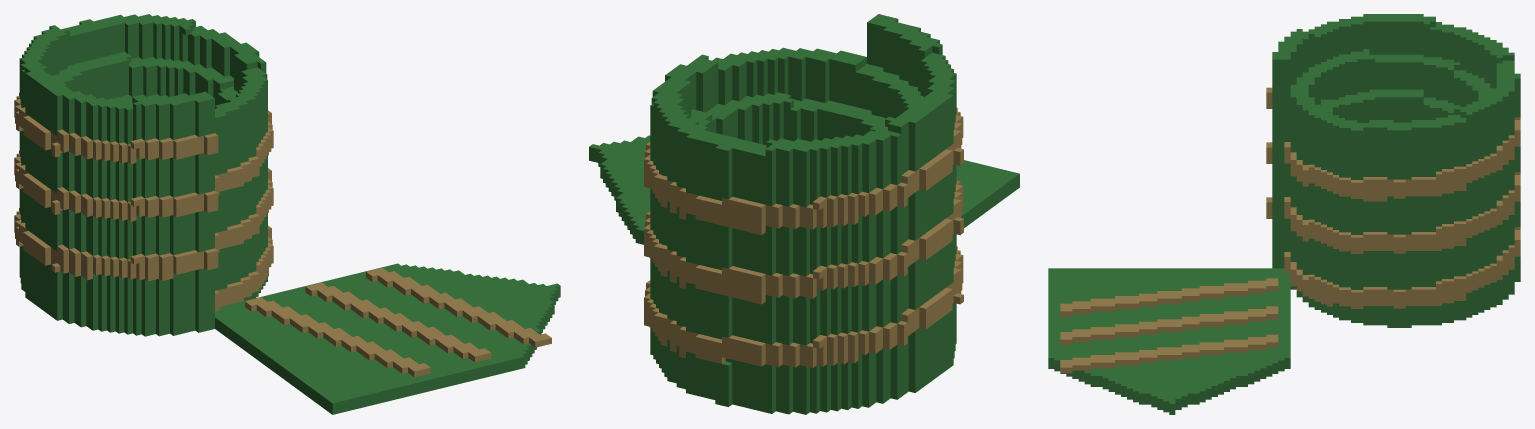
Rendered from tie_necktie.glb.
3 renders of one model, left to right at view 1: azimuth 30°, elevation 25°; view 2: azimuth 150°, elevation 25°; view 3: azimuth 270°, elevation 25°, orthographic. The views are drawn at different scales.
Parts seen in each view (by area): view 1: tie_necktie:compound; view 2: tie_necktie:compound; view 3: tie_necktie:compound.
Part boxes in pixels (x1=…): tie_necktie:compound: x1=14, y1=14, x2=560, y2=414; tie_necktie:compound: x1=589, y1=14, x2=1019, y2=414; tie_necktie:compound: x1=1048, y1=14, x2=1520, y2=414.
Size of the model in its own units: 0.148 by 0.08 by 0.156.
